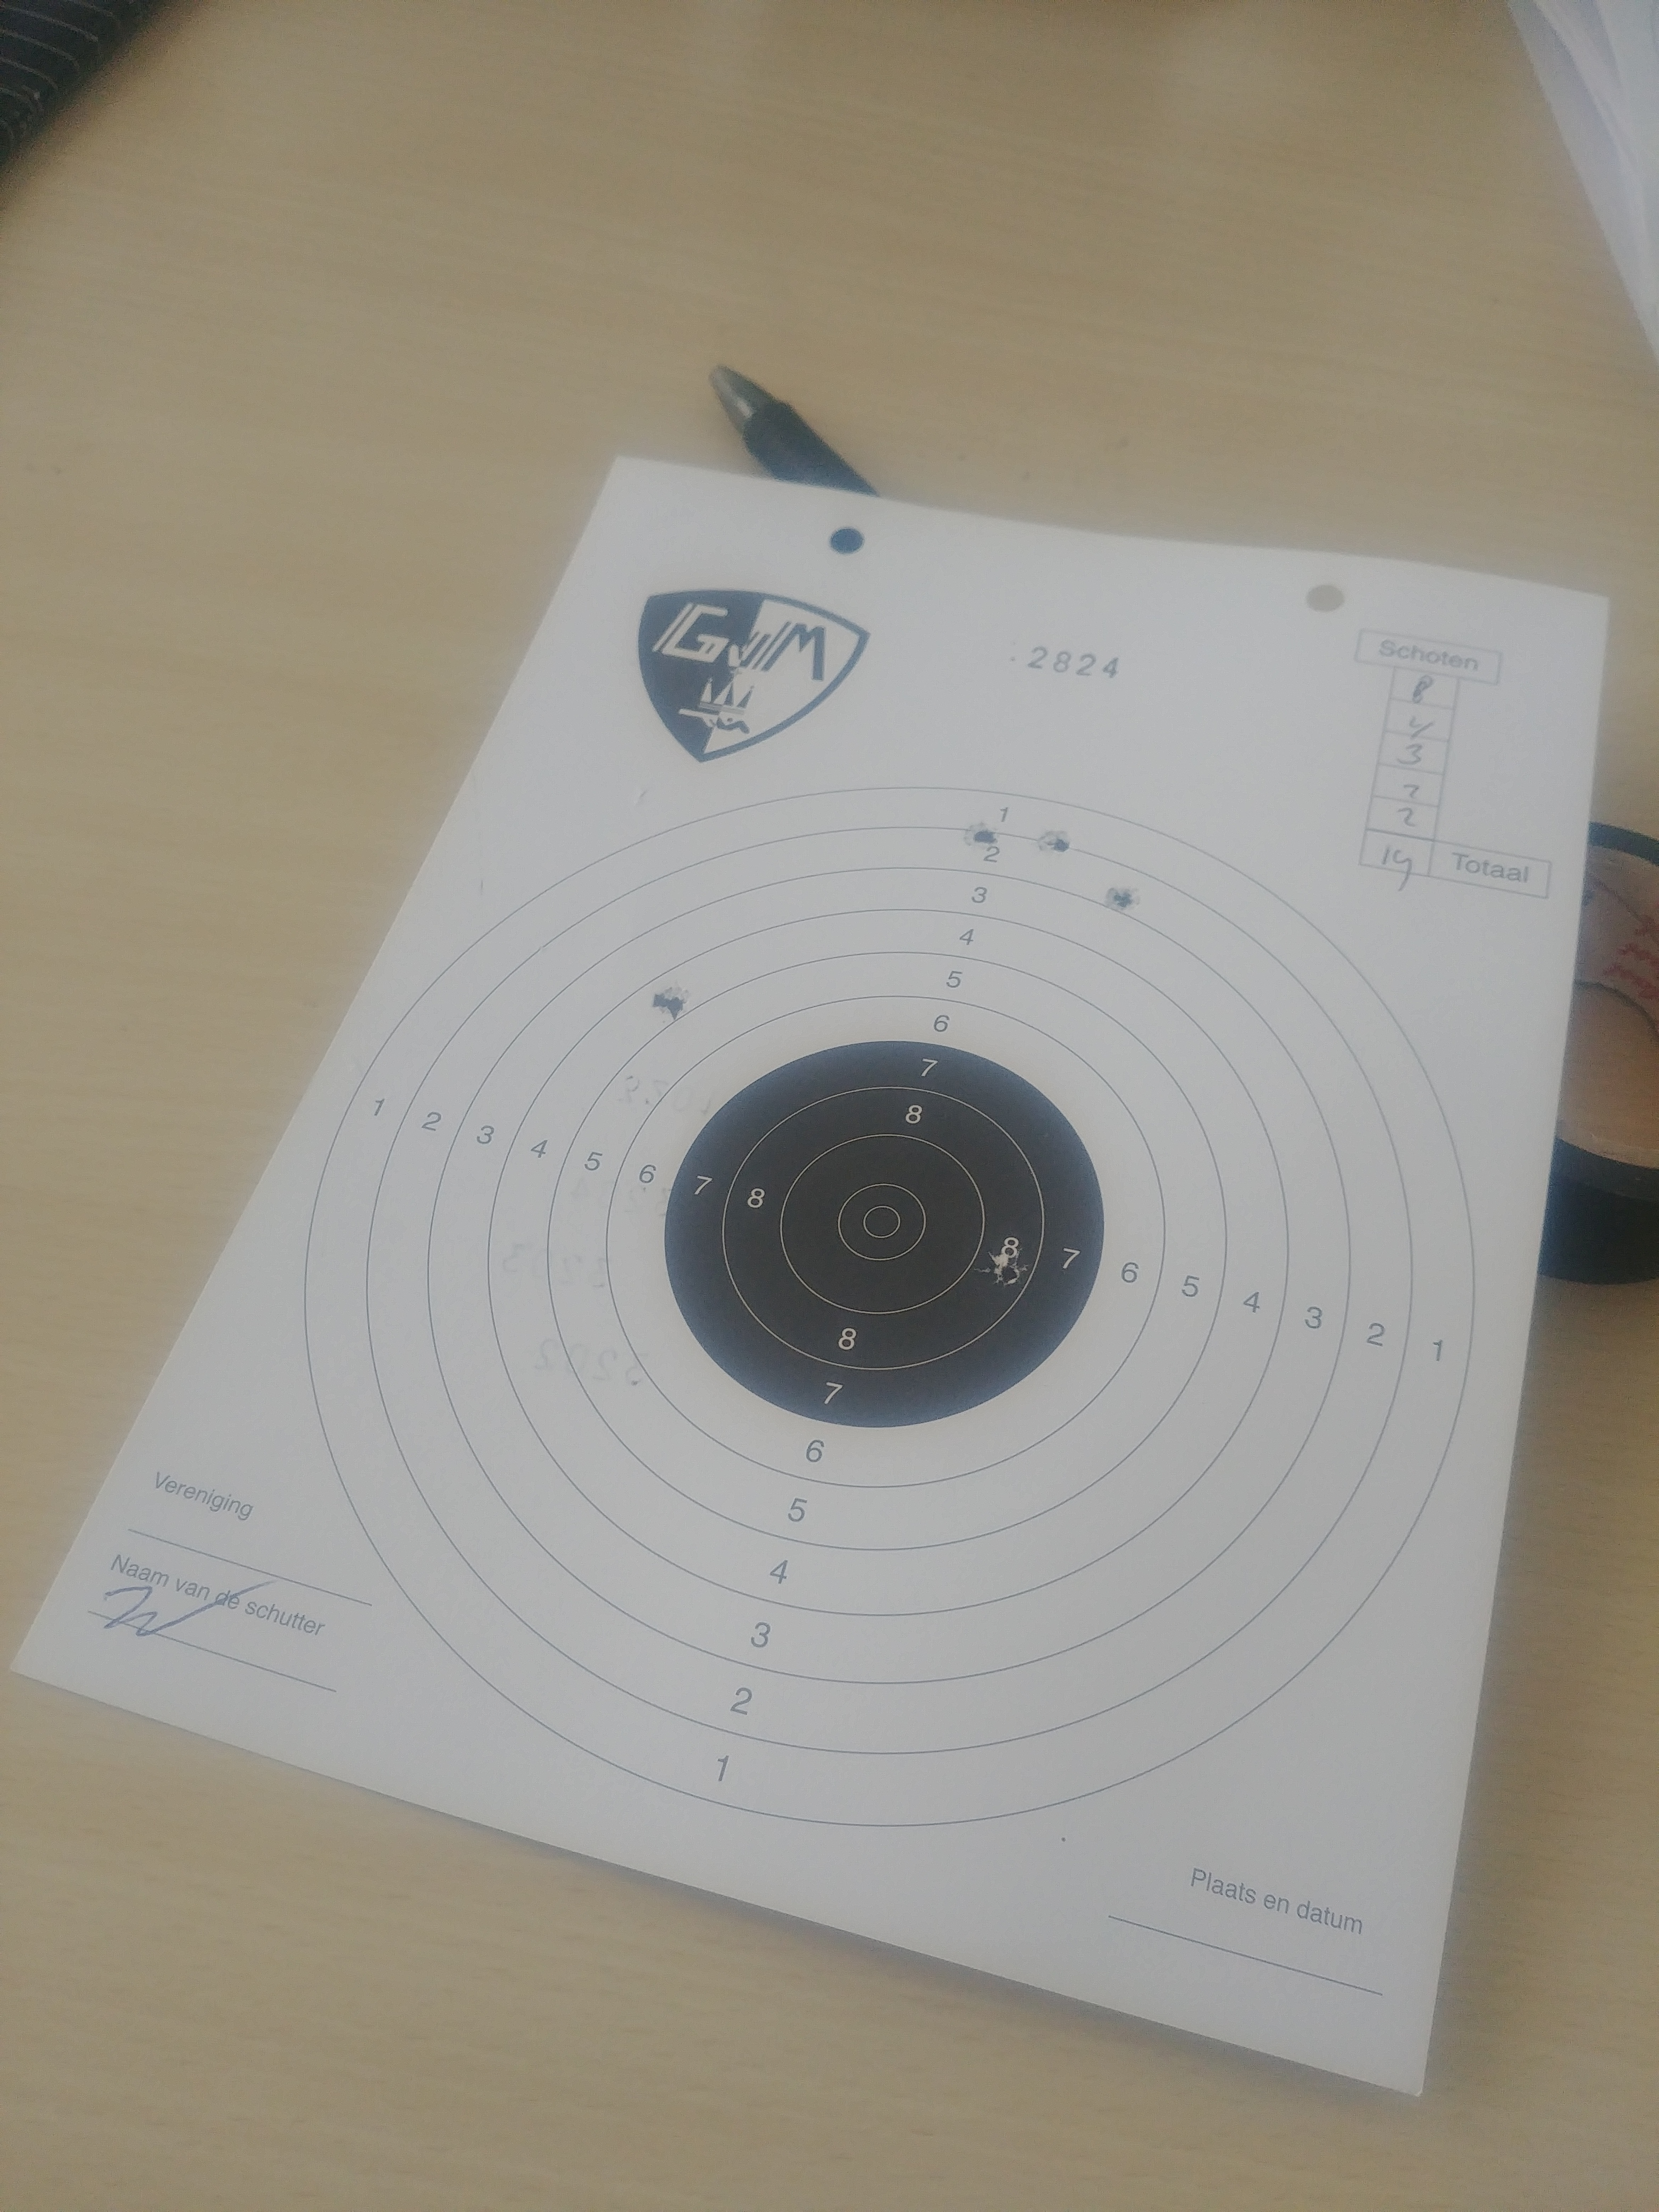center: (664, 1040, 1105, 1428)
out: (303, 786, 1478, 1829)
shot: (652, 988, 688, 1022), (988, 1254, 1028, 1285), (1103, 885, 1141, 911), (962, 824, 999, 848), (1037, 831, 1070, 853)
target: (836, 1183, 927, 1261)
